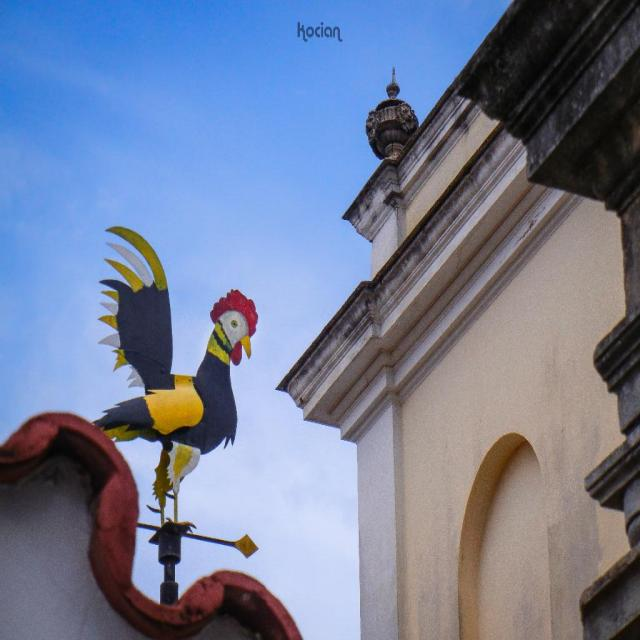Chicken: (92, 225, 262, 524)
